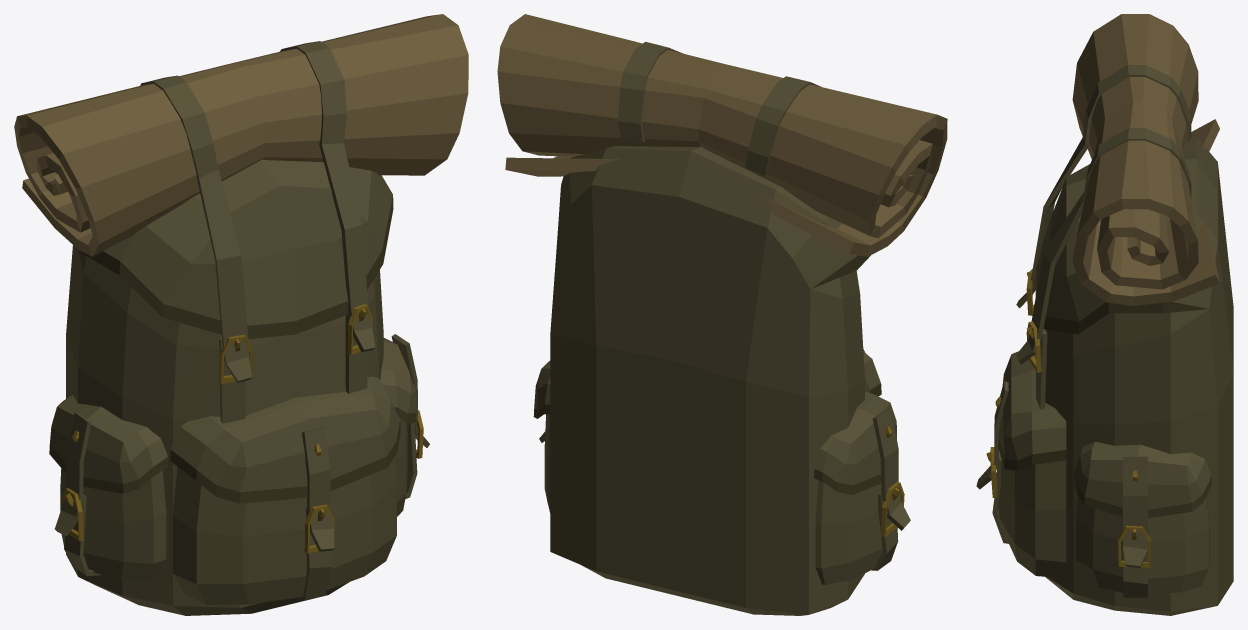
Rendered from backpack-slender-pack.glb.
The picture shows the model from 3 angles, left to right: view 1: azimuth 30°, elevation 25°; view 2: azimuth 150°, elevation 25°; view 3: azimuth 270°, elevation 25°; orthographic projection. The views are drawn at different scales.
Visible parts, largest first — view 1: backpack-slender-pack runtime mesh; view 2: backpack-slender-pack runtime mesh; view 3: backpack-slender-pack runtime mesh.
Part boxes in pixels (bbox=[...]): backpack-slender-pack runtime mesh: bbox=[14, 14, 468, 615]; backpack-slender-pack runtime mesh: bbox=[497, 14, 947, 615]; backpack-slender-pack runtime mesh: bbox=[976, 14, 1233, 615].
Bounding box in the file's own units: 0.4115 × 0.48 × 0.2418.
